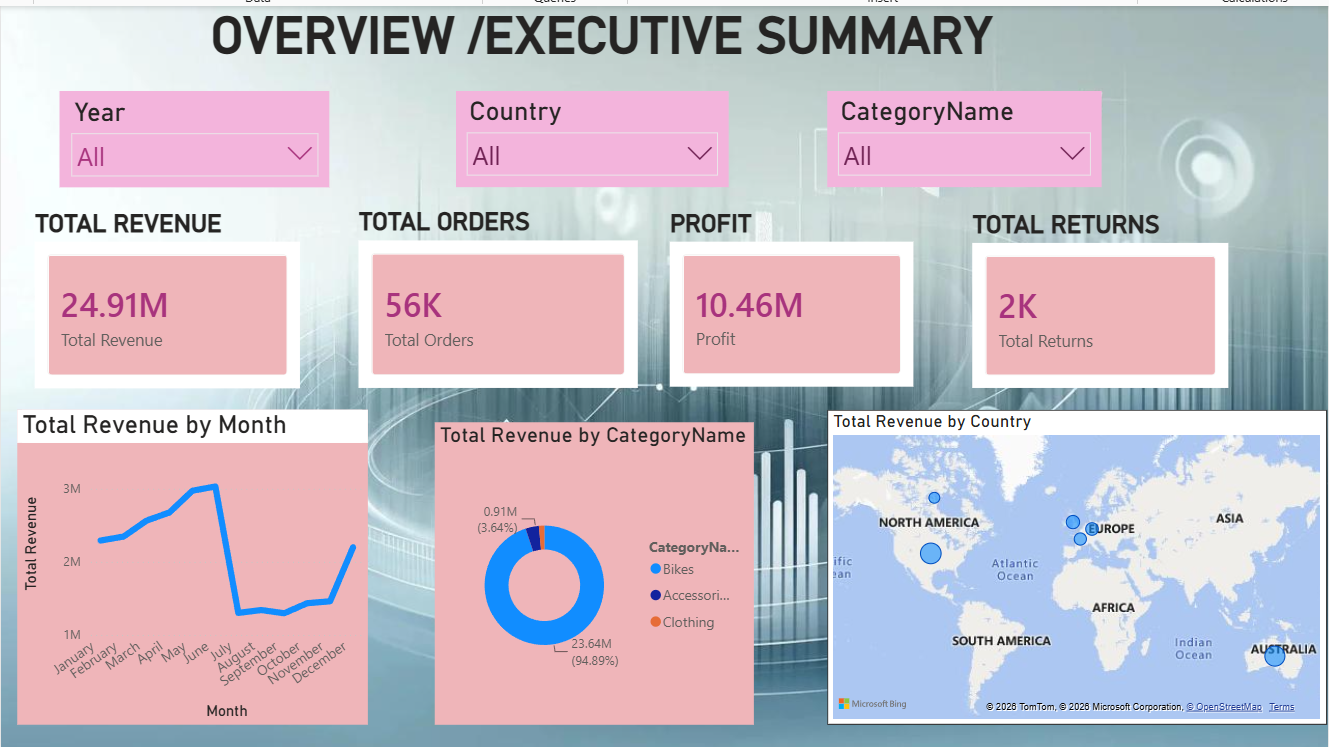

This screenshot's page, from the dashboard's own definition file:
{"tool":"powerbi","page":{"name":"overview/executive summary","canvas":[1280,720],"ordinal":1},"visuals":[{"type":"cardVisual","title":"TOTAL REVENUE","fields":{"Data":["total_sales.Total Revenue"]},"box":[27.7,195.4,266.6,178.6],"z":0},{"type":"cardVisual","title":"TOTAL ORDERS","fields":{"Data":["total_sales.Total Orders"]},"box":[339.9,194,279.4,179.8],"z":1000},{"type":"cardVisual","title":"PROFIT","fields":{"Data":["total_sales.Profit","total_sales.Profit"]},"box":[640.7,195.8,245.6,178],"z":2000},{"type":"cardVisual","title":"TOTAL RETURNS","fields":{"Data":["total_sales.Total Returns"]},"box":[933,196.3,257.4,177.8],"z":3000},{"type":"lineChart","fields":{"Category":["Calendar.Date.Variation.Date Hierarchy.Month"],"Y":["total_sales.Total Revenue"]},"box":[16,389.8,338.2,304.3],"z":4000},{"type":"donutChart","fields":{"Category":["Product-Categories.CategoryName"],"Y":["total_sales.Total Revenue"]},"box":[418.2,402.2,307.9,291.9],"z":5000},{"type":"slicer","fields":{"Values":["Calendar.Date.Variation.Date Hierarchy.Year"]},"box":[56.9,82.5,260.3,92.4],"z":6000},{"type":"slicer","fields":{"Values":["Territories.Country"]},"box":[439.5,82.5,263.1,92.4],"z":7000},{"type":"slicer","fields":{"Values":["Product-Categories.CategoryName"]},"box":[797.9,82.5,264.5,92.4],"z":8000},{"type":"map","fields":{"Category":["Territories.Country"],"Size":["total_sales.Total Revenue"]},"box":[797.3,389.8,482.3,304.3],"z":9000},{"type":"textbox","title":"OVERVIEW /EXECUTIVE SUMMARY","box":[197.6,0,802.7,60.5],"z":10000}]}

Visuals, with their boxes on the page's 1280x720 design canvas (x1, y1, x2, y2). These are canvas units, not pixel positions in the 1329x747 screenshot, which may show the page scaled, cropped or inside an application window:
"TOTAL REVENUE" cardVisual: 28, 195, 294, 374
"TOTAL ORDERS" cardVisual: 340, 194, 619, 374
"PROFIT" cardVisual: 641, 196, 886, 374
"TOTAL RETURNS" cardVisual: 933, 196, 1190, 374
lineChart - Calendar.Date.Variation.Date Hierarchy.Month x total_sales.Total Revenue: 16, 390, 354, 694
donutChart - Product-Categories.CategoryName x total_sales.Total Revenue: 418, 402, 726, 694
slicer - Calendar.Date.Variation.Date Hierarchy.Year: 57, 82, 317, 175
slicer - Territories.Country: 440, 82, 703, 175
slicer - Product-Categories.CategoryName: 798, 82, 1062, 175
map - Territories.Country x total_sales.Total Revenue: 797, 390, 1280, 694
"OVERVIEW /EXECUTIVE SUMMARY" textbox: 198, 0, 1000, 60
